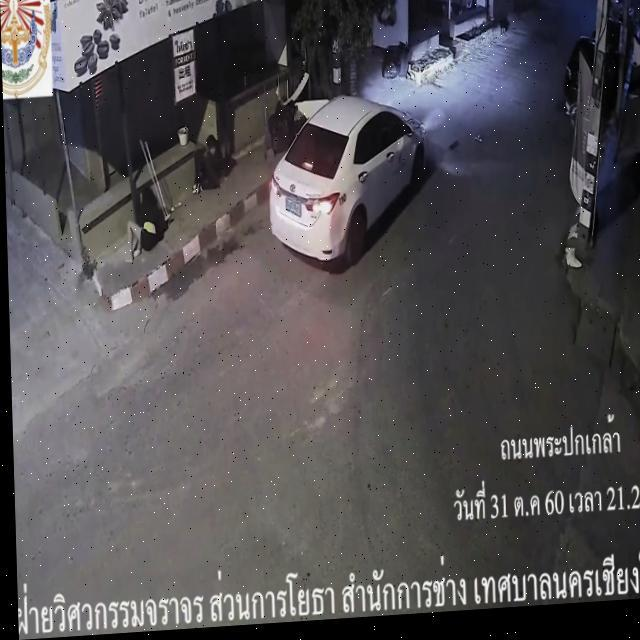normal: (257, 66, 470, 289)
